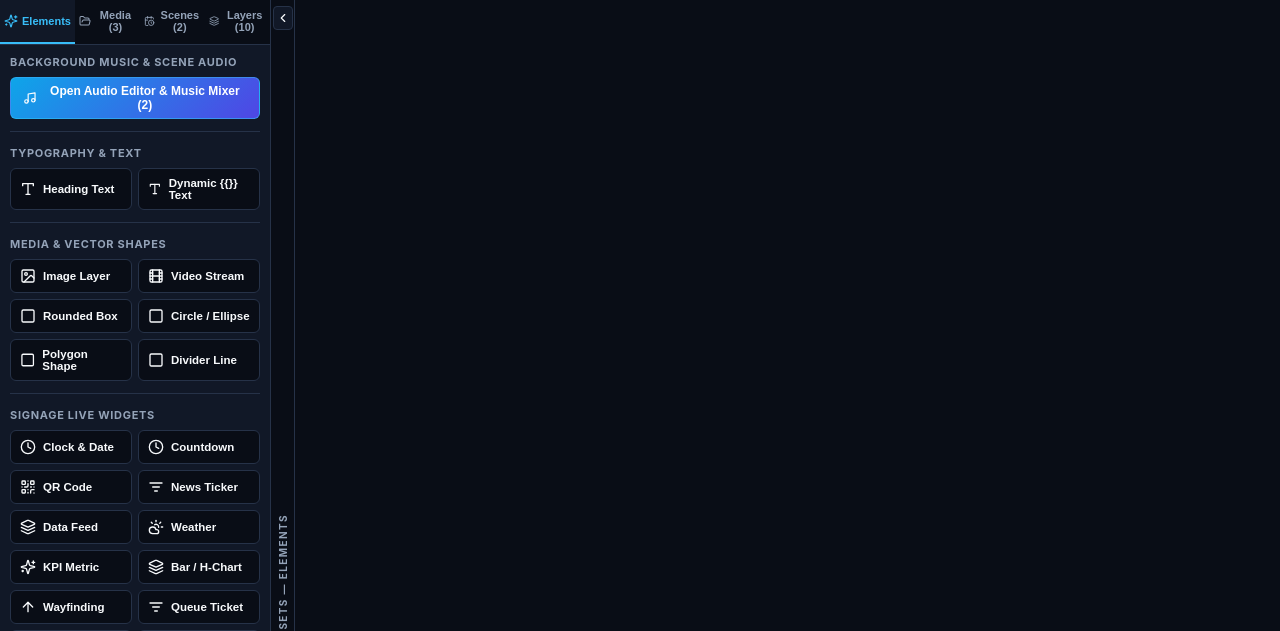
Test case: scene template workflow › cancels either dialog without adding a scene and supports returning to the choice
The image size is (1280, 631).
Click the button "Scenes (2)" at (172, 22), box [140,0,205,44]
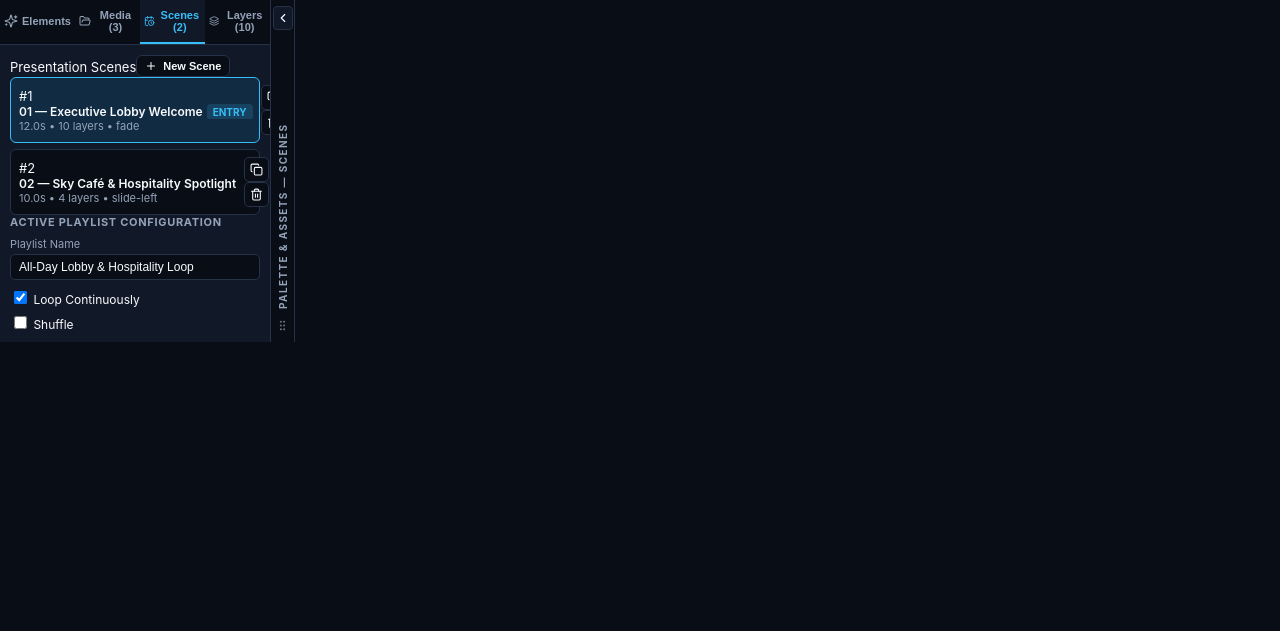
Click the button "New Scene" at (183, 66), box [136,55,230,77]
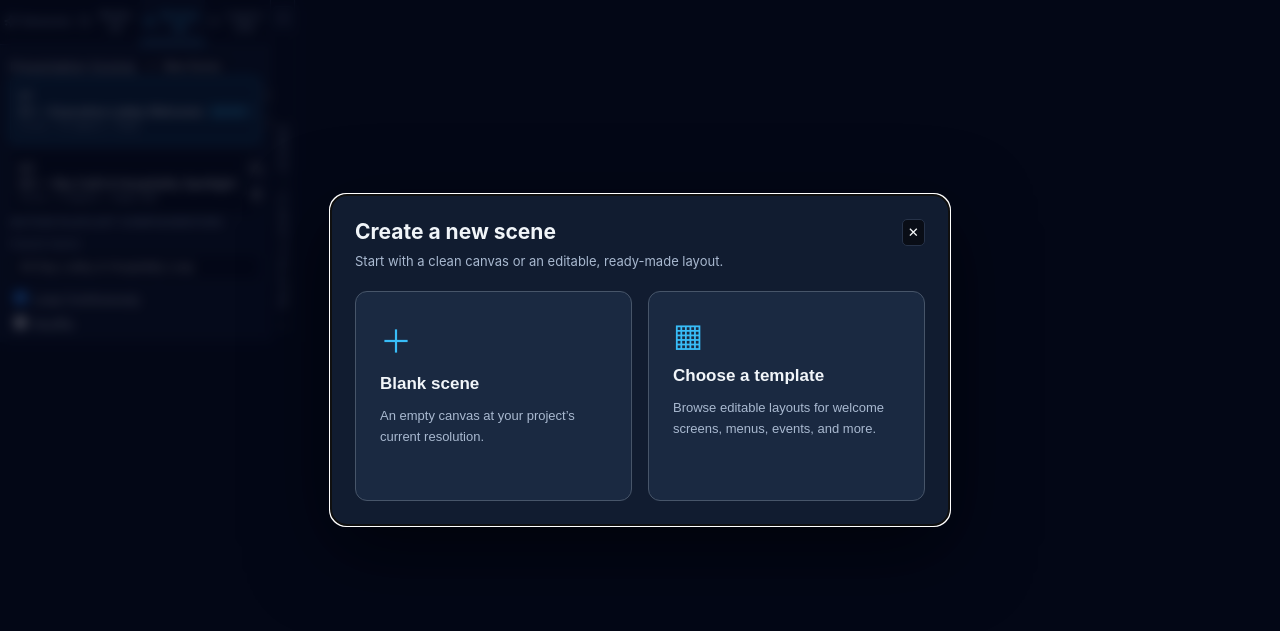
Click the button "Choose a template" at (688, 335), box [648,291,925,501]
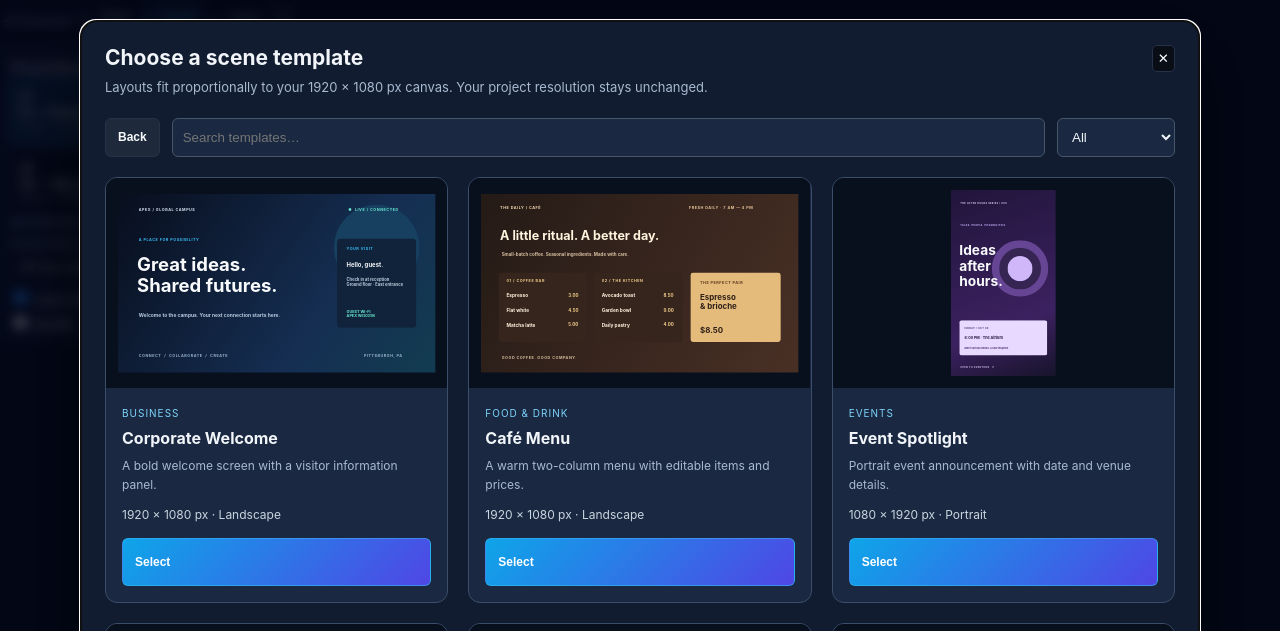
Click the button "Back" at (132, 137), box [105,118,160,156]
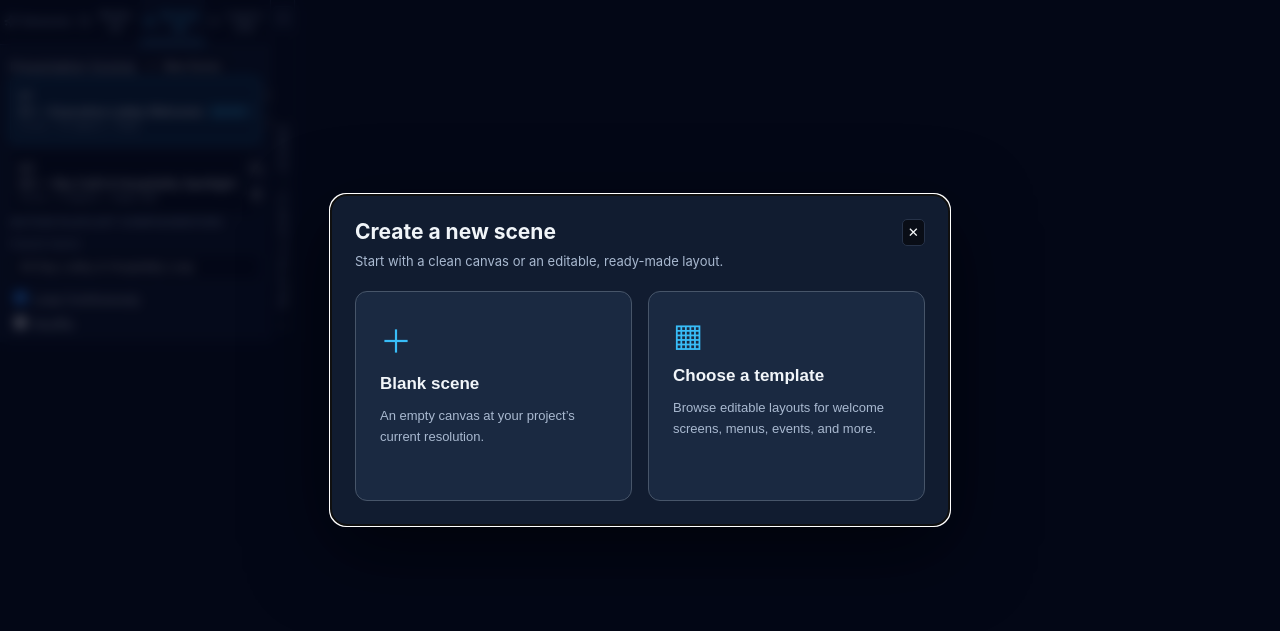
Result: the dialog "Create a new scene" is shown at [330,194,950,526]
Press Escape
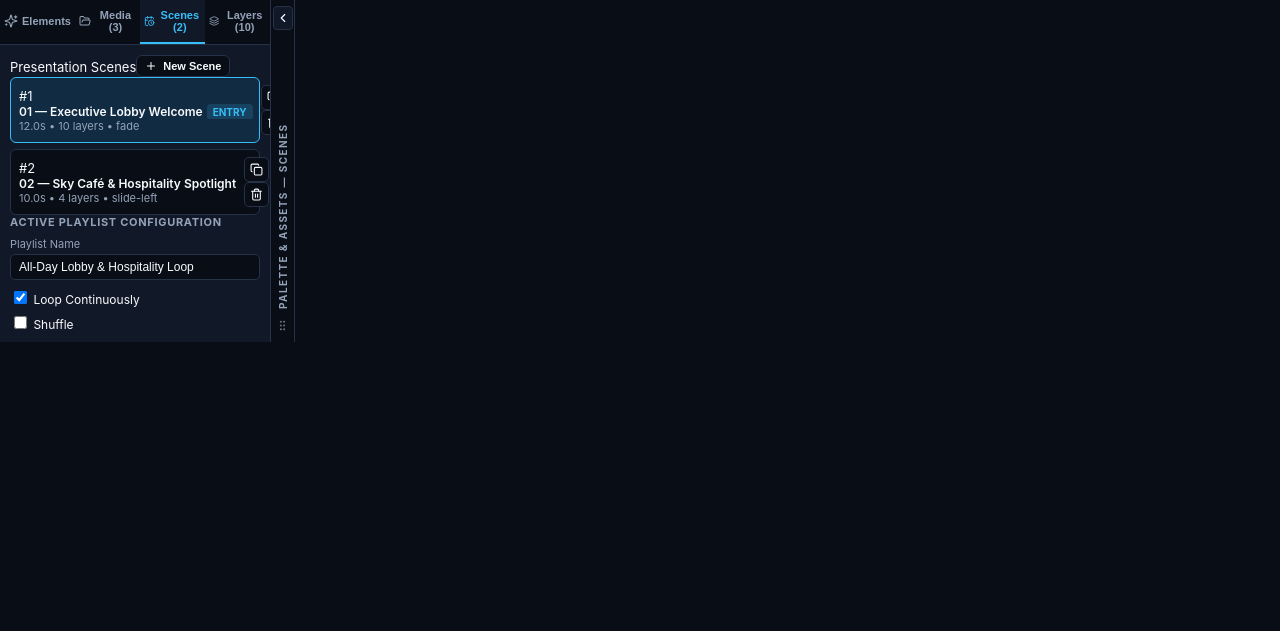
Result: the dialog is gone
